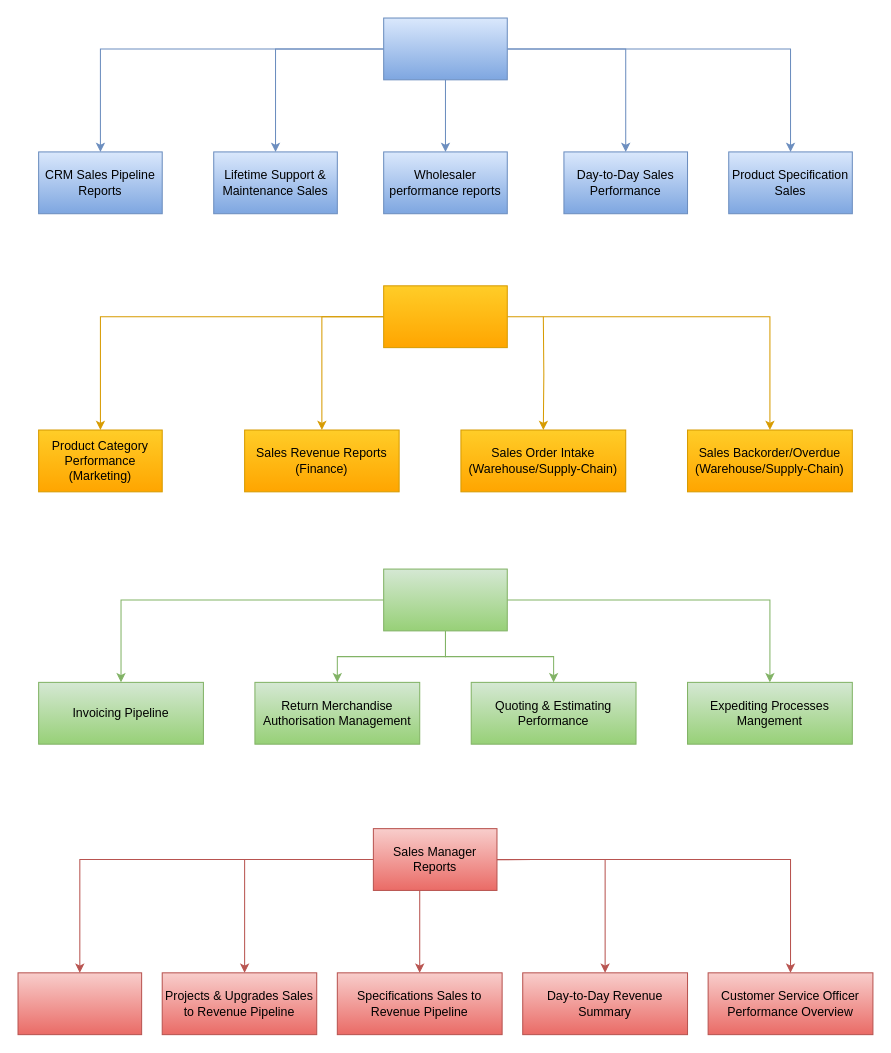
Some shapes in this 891 by 1053 pixel diagram are drawn without their labels. Here are the shapes that lost their labels. From the top down, the centre of each, then its label:
At point (445, 48): "Sales BDM Reports".
At point (445, 316): "Cross Business Sales Reports".
At point (445, 599): "Customer Service Reports".
At point (79, 1003): "BDM Performance Overview".
